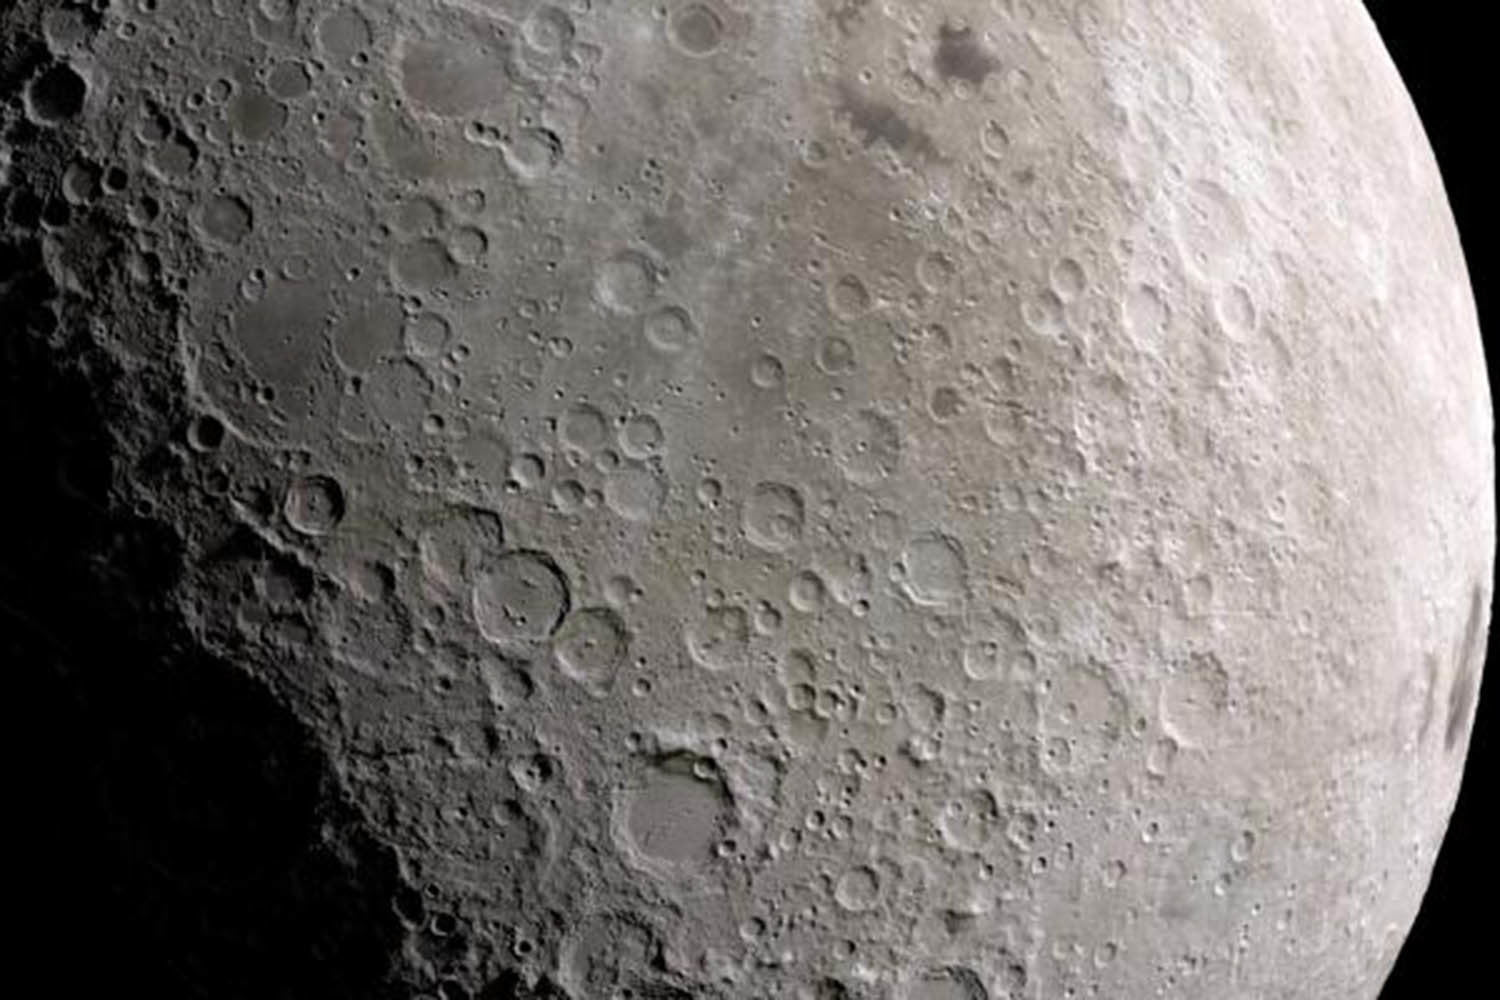crater: (594, 741, 771, 898), (1150, 633, 1253, 780), (453, 542, 573, 655), (8, 47, 118, 144), (817, 408, 921, 500), (722, 478, 825, 557), (574, 234, 663, 325), (663, 4, 749, 83), (731, 337, 804, 417), (1205, 283, 1272, 348), (872, 195, 919, 238)
